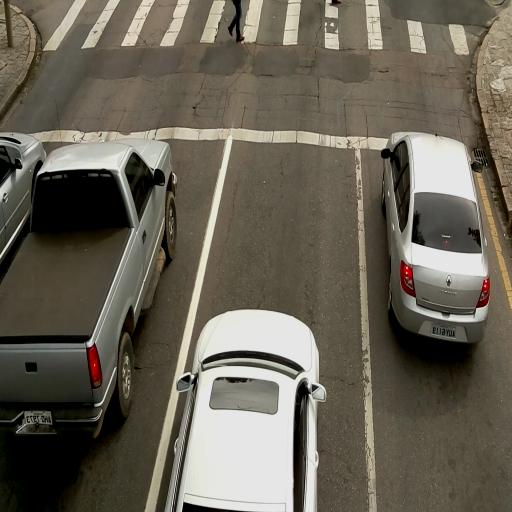car: (1, 135, 178, 433), (171, 309, 326, 512), (380, 130, 491, 342), (0, 132, 46, 286)
